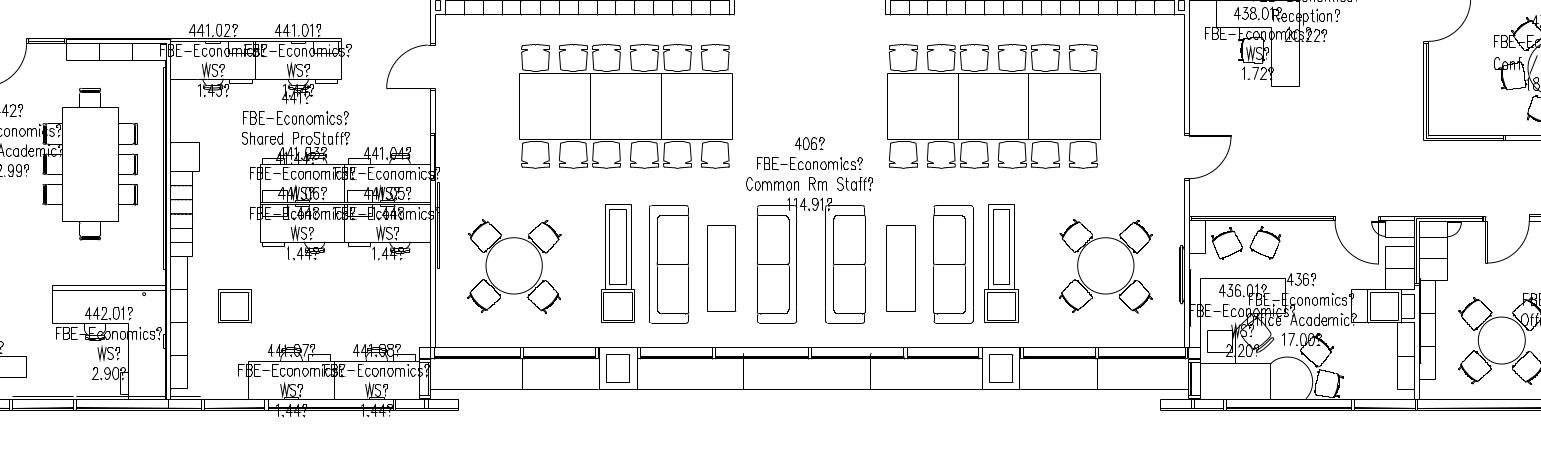door: (1479, 211, 1538, 270), (1322, 208, 1381, 267), (376, 37, 435, 96), (1175, 130, 1237, 180), (1420, 1, 1482, 50)
